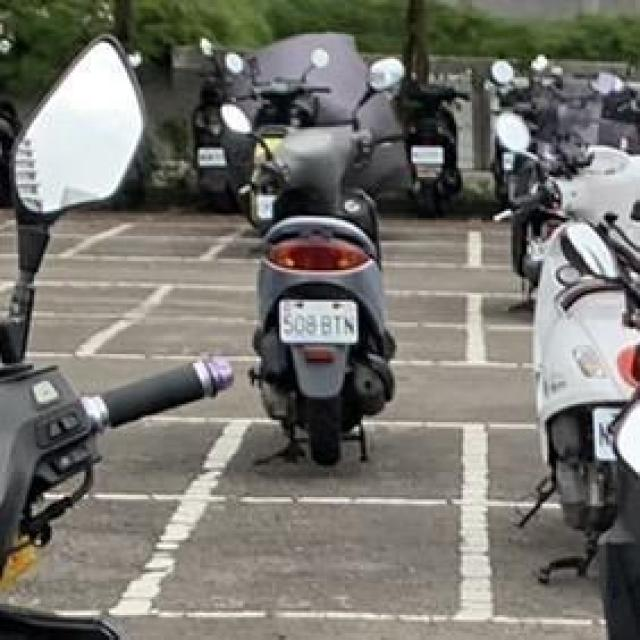W: (272, 297, 362, 348), (408, 144, 447, 167)
